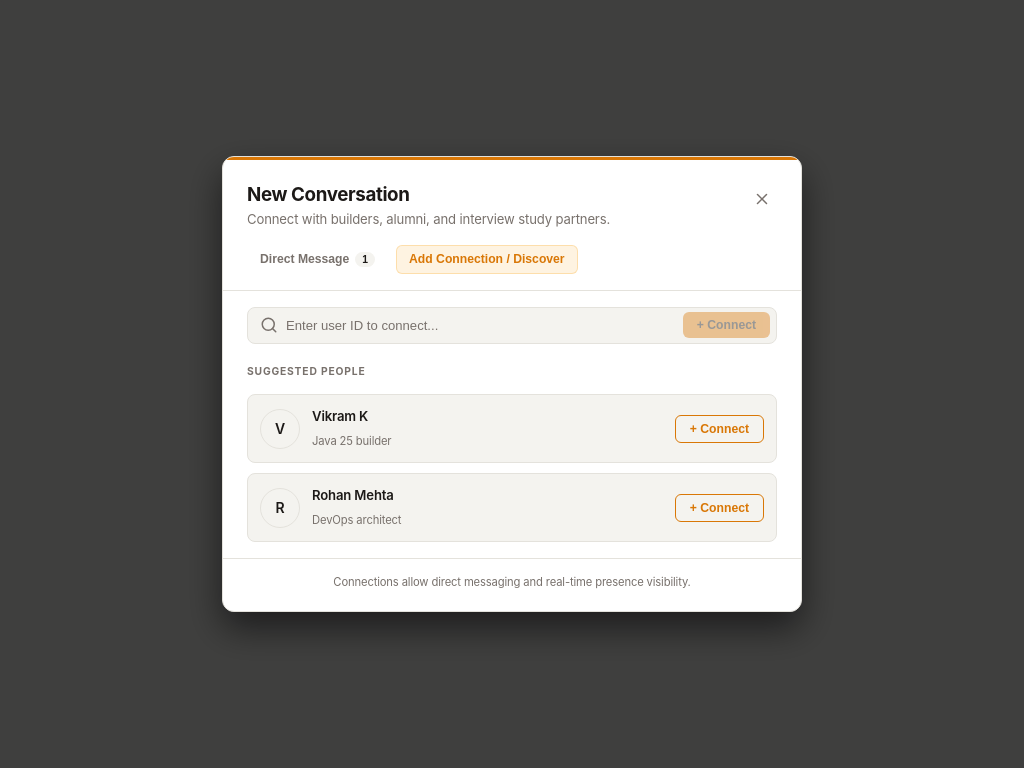
Test: NewChatModalComponent › should send connection request when clicking + Connect on suggested user
Click the button with test id "connect-btn-vikram-k-id" at (719, 429), box top-left (675, 415), bottom-right (764, 443)
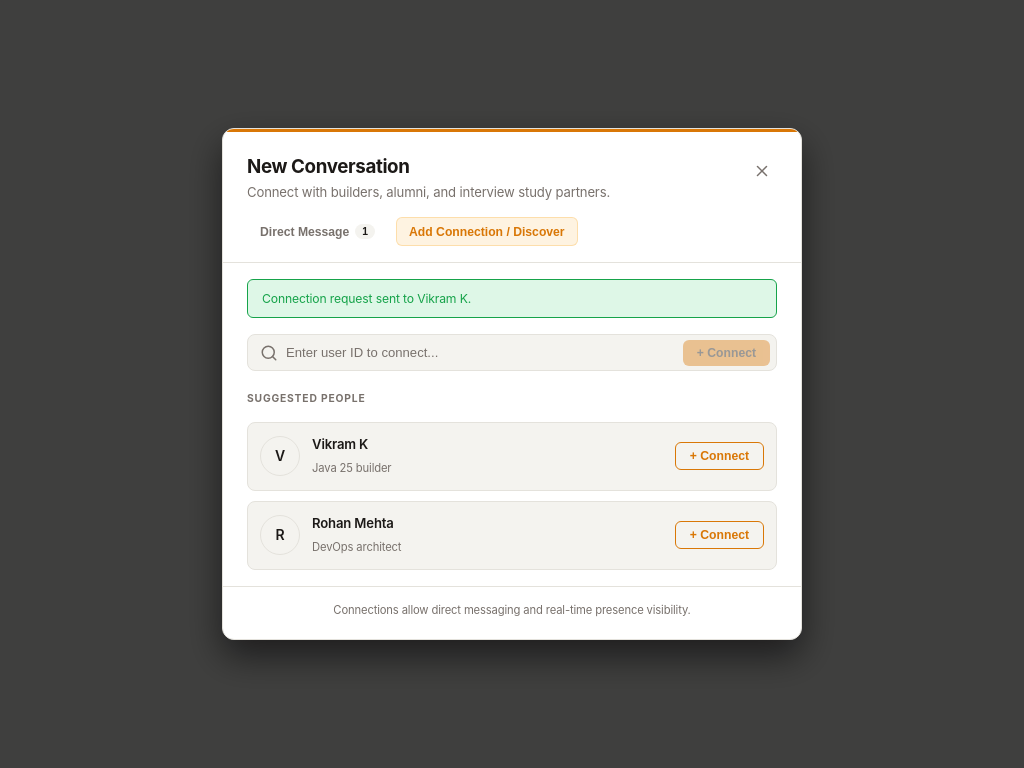
Result: the message "Connection request sent to Vikram K." is shown at top-left (247, 279), bottom-right (777, 318)
